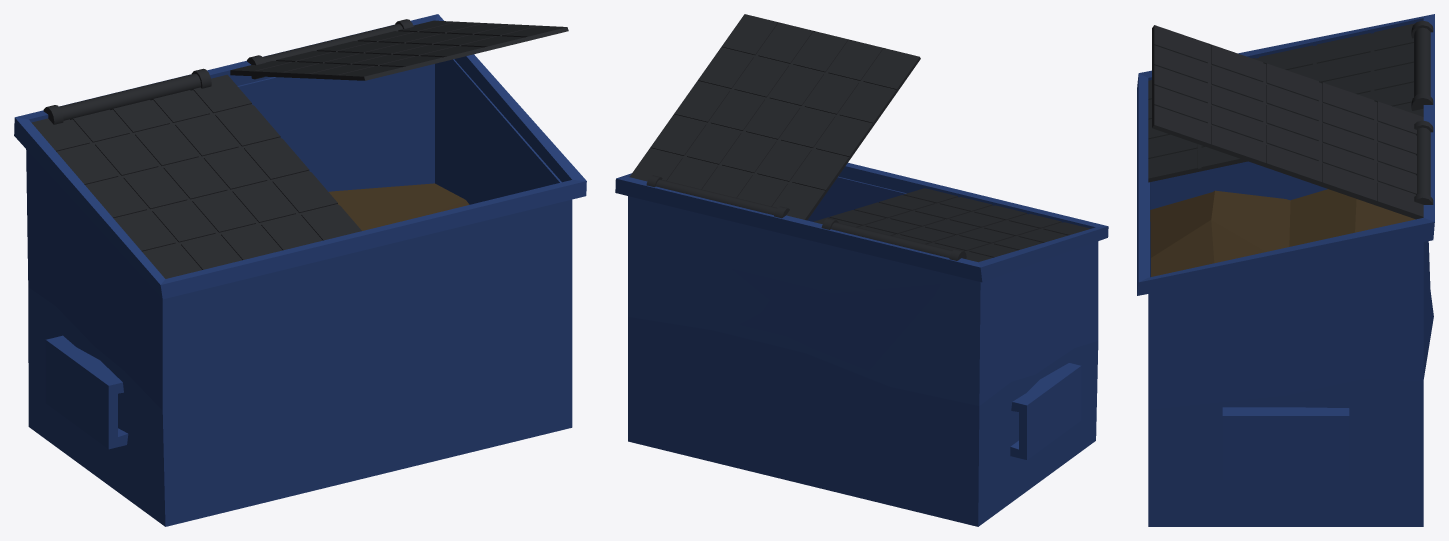
Rendered from TrashBin_3.fbx.
The picture shows the model from 3 angles, left to right: view 1: azimuth 30°, elevation 25°; view 2: azimuth 150°, elevation 25°; view 3: azimuth 270°, elevation 25°; orthographic projection. The views are drawn at different scales.
Parts seen in each view (by area): view 1: TrashBin_3; view 2: TrashBin_3; view 3: TrashBin_3.
Boxes of the visible parts, <box> form: TrashBin_3: <box>14,14,586,526</box>; TrashBin_3: <box>615,14,1108,526</box>; TrashBin_3: <box>1137,14,1434,526</box>.
Size of the model in its own units: 218 by 187 by 126.
